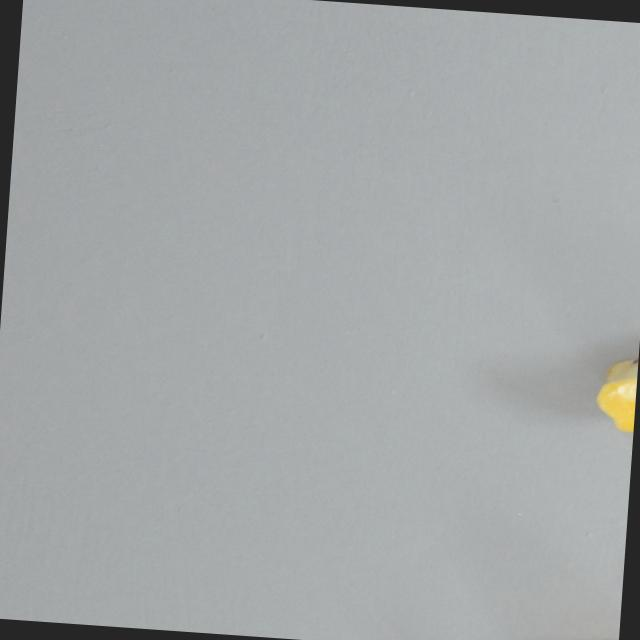dañado: (586, 324, 640, 437), (537, 631, 619, 640)
